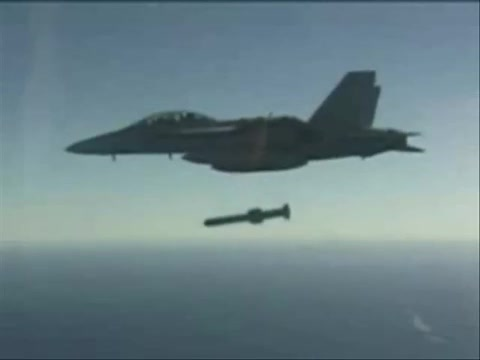aeroplane: (66, 70, 428, 174)
